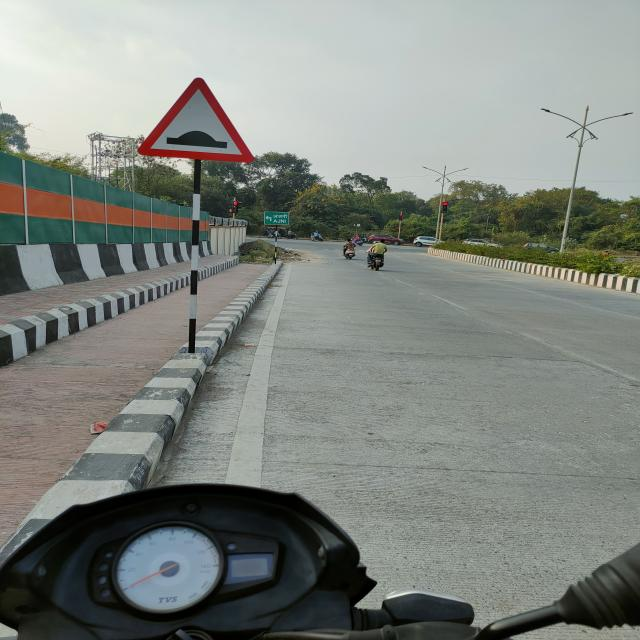GENERAL: (264, 210, 291, 226)
HUMP_OR_ROUGH_ROAD: (132, 74, 258, 165)
